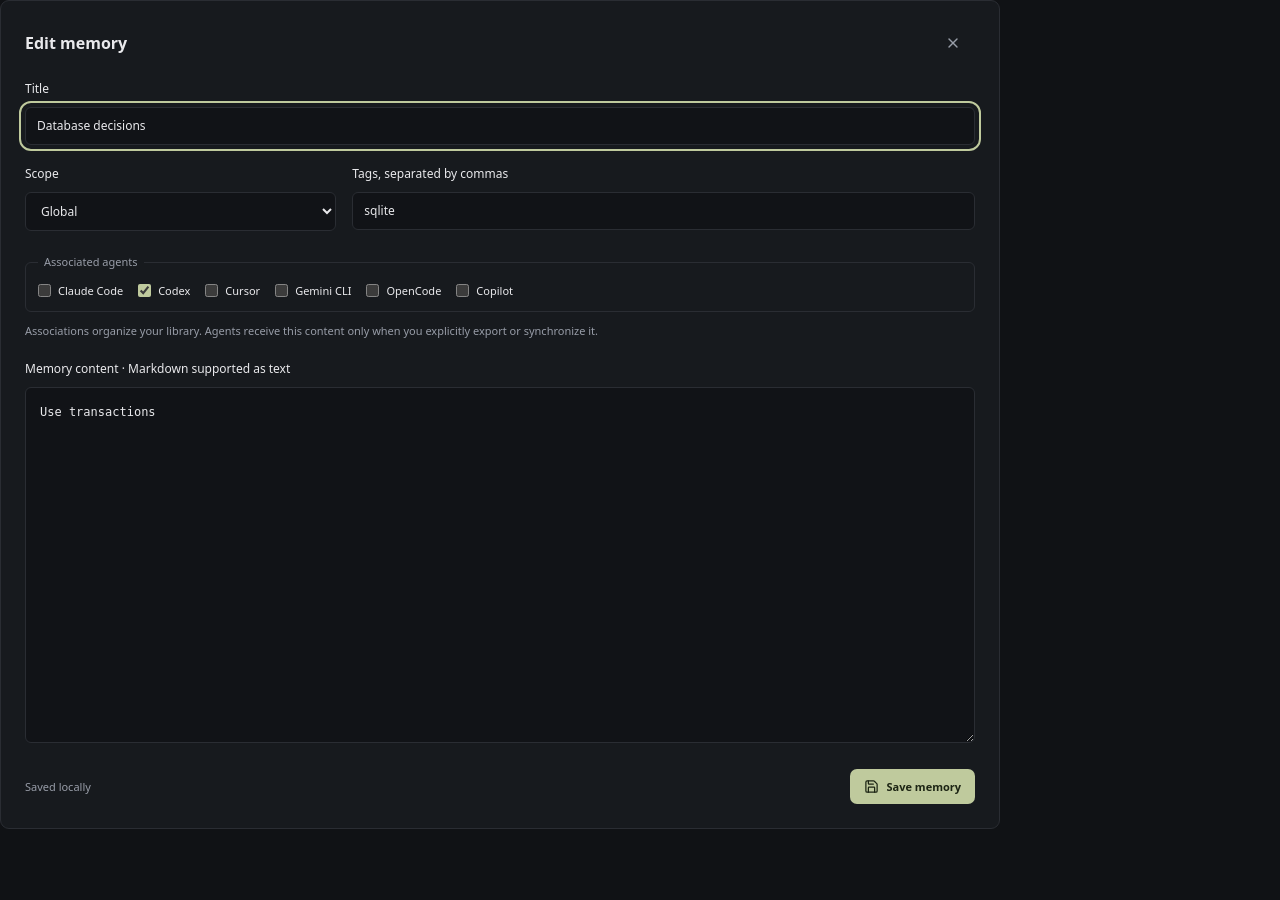
Test case: Memory library › keeps unsaved content on a revision conflict
Replace the text in the text box labelled "Memory content · Markdown supported as text" with "My unsaved edit" at (500, 565), box [25,387,975,743]
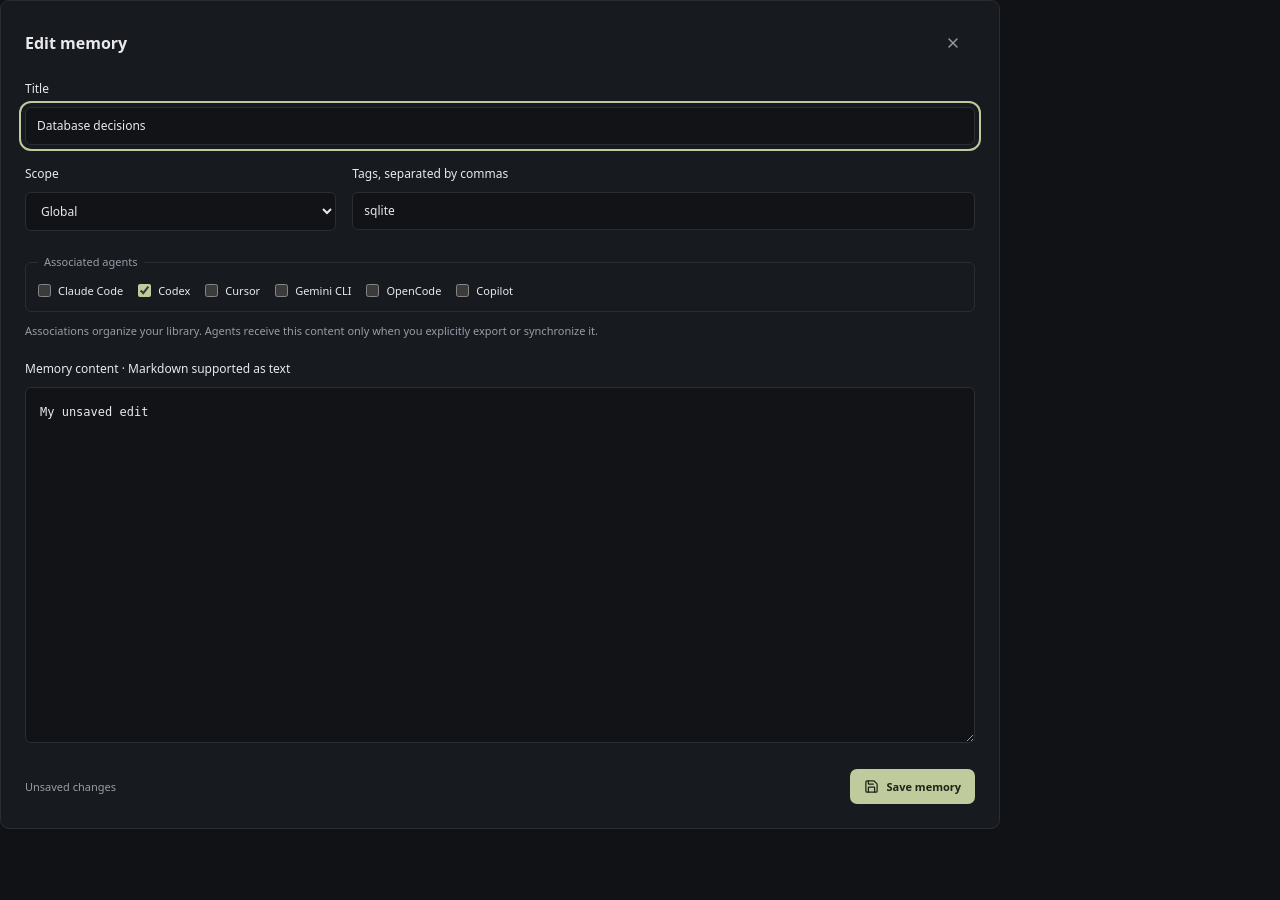
Click the button "Save memory" at (912, 787), box [850,769,975,804]
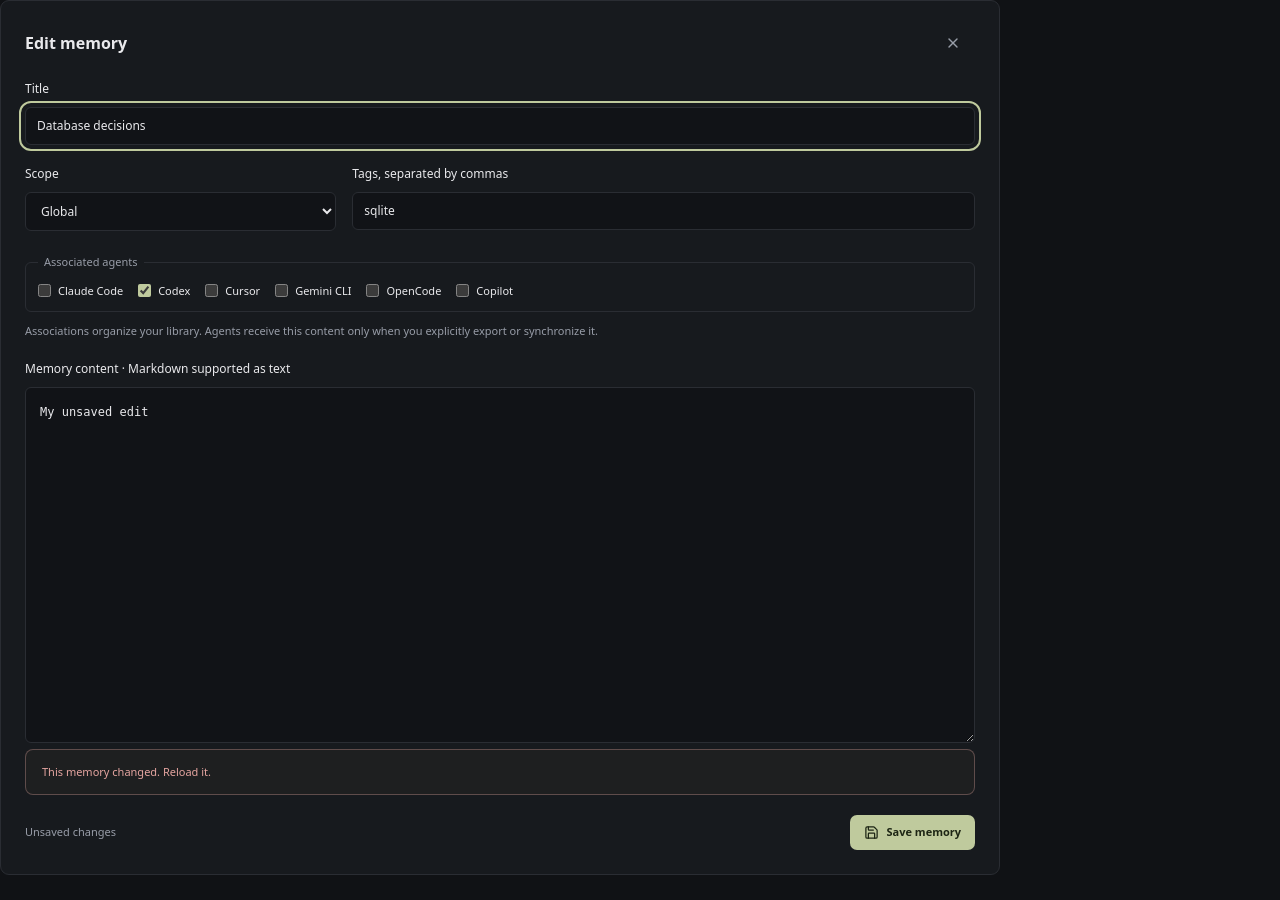
Result: the message shows "This memory changed" at [42,764,211,779]
